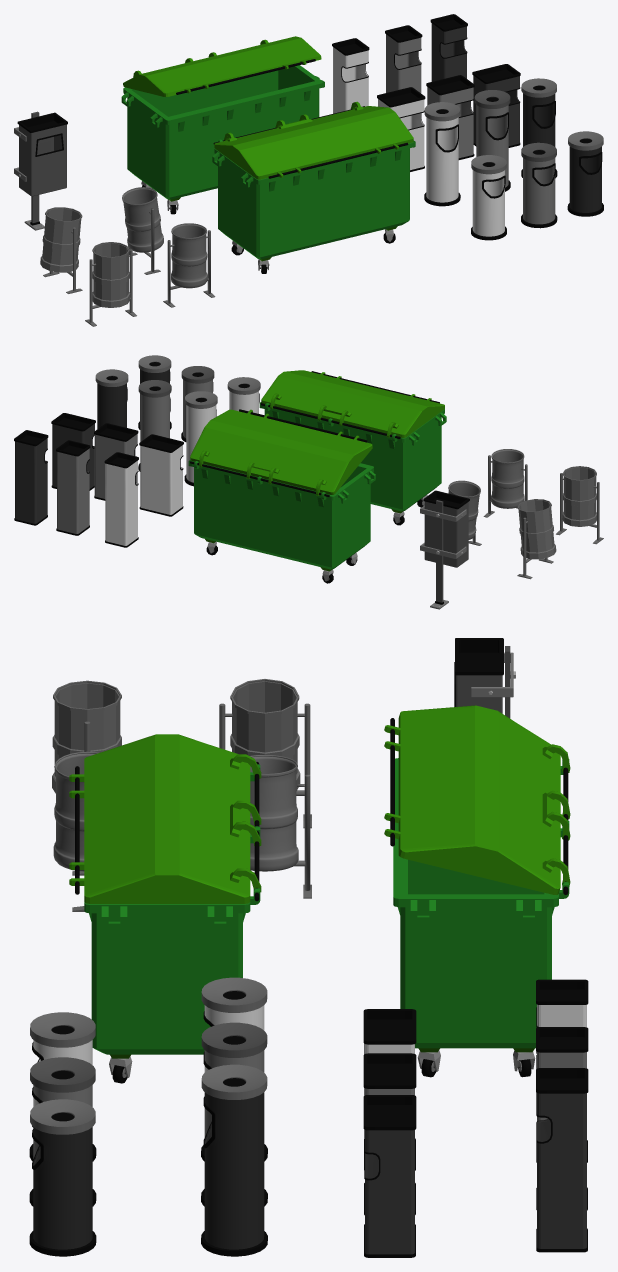
Rendered from street_bins.fbx.
3 renders of one model, top to bottom at view 1: azimuth 30°, elevation 25°; view 2: azimuth 150°, elevation 25°; view 3: azimuth 270°, elevation 25°, orthographic. The views are drawn at different scales.
Parts seen in each view (by area): view 1: container, container.001, container_tapa, container_tapa.001, other_bin, other_bin.003, other_bin.002, other_bin.006, other_bin.001, bin, other_bin.004, papelera_flat (+11 smaller); view 2: container.001, container_tapa.001, container_tapa, container, other_bin, bin.003, bin, bin.001, bin.002, papelera_flat, papelera_flat.001, papelera_smooth (+10 smaller); view 3: container_tapa, container_tapa.001, container.001, container, other_bin.005, bin.002, other_bin.002, bin.005, papelera_flat.001, papelera_smooth.001, papelera_flat, other_bin (+11 smaller).
Boxes of the visible parts, x1=… form: container: x1=212, y1=106, x2=415, y2=273; container.001: x1=121, y1=65, x2=324, y2=214; container_tapa: x1=214, y1=101, x2=413, y2=179; container_tapa.001: x1=123, y1=36, x2=321, y2=96; other_bin: x1=14, y1=111, x2=67, y2=230; other_bin.003: x1=424, y1=102, x2=460, y2=206; other_bin.002: x1=567, y1=131, x2=603, y2=216; other_bin.006: x1=471, y1=155, x2=506, y2=240; other_bin.001: x1=521, y1=142, x2=557, y2=228; bin: x1=332, y1=38, x2=369, y2=113; other_bin.004: x1=474, y1=90, x2=510, y2=191; papelera_flat: x1=92, y1=242, x2=130, y2=307; container.001: x1=188, y1=460, x2=375, y2=583; container_tapa.001: x1=190, y1=409, x2=372, y2=495; container_tapa: x1=261, y1=370, x2=444, y2=437; container: x1=259, y1=402, x2=446, y2=525; other_bin: x1=420, y1=490, x2=469, y2=609; bin.003: x1=139, y1=434, x2=183, y2=516; bin: x1=104, y1=452, x2=138, y2=547; bin.001: x1=56, y1=440, x2=90, y2=535; bin.002: x1=14, y1=430, x2=48, y2=525; papelera_flat: x1=562, y1=466, x2=596, y2=526; papelera_flat.001: x1=517, y1=499, x2=556, y2=559; papelera_smooth: x1=491, y1=449, x2=524, y2=508; container_tapa: x1=69, y1=734, x2=261, y2=903; container_tapa.001: x1=384, y1=705, x2=570, y2=894; container.001: x1=393, y1=758, x2=569, y2=1077; container: x1=84, y1=762, x2=260, y2=1083; other_bin.005: x1=201, y1=1064, x2=267, y2=1256; bin.002: x1=536, y1=1068, x2=588, y2=1252; other_bin.002: x1=29, y1=1099, x2=96, y2=1256; bin.005: x1=363, y1=1095, x2=416, y2=1257; papelera_flat.001: x1=230, y1=679, x2=300, y2=791; papelera_smooth.001: x1=250, y1=754, x2=298, y2=871; papelera_flat: x1=52, y1=680, x2=121, y2=793; other_bin: x1=454, y1=638, x2=515, y2=718.
Bounding box in the file's own units: 3.5 × 1.69 × 6.76.
